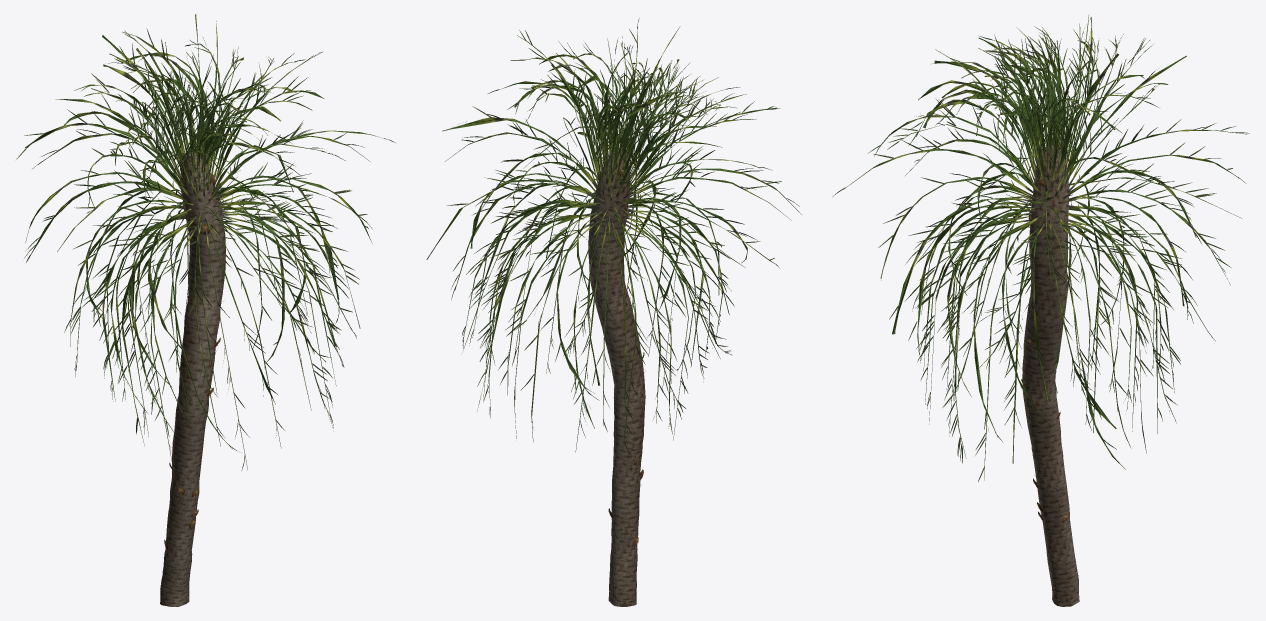
File: macrozamia_moorei_palm_tall_lod1.gltf
3 renders of one model, left to right at view 1: azimuth 30°, elevation 25°; view 2: azimuth 150°, elevation 25°; view 3: azimuth 270°, elevation 25°, orthographic. The views are drawn at different scales.
Parts seen in each view (by area): view 1: Macrozamia_Moorei_Palm_Tall; view 2: Macrozamia_Moorei_Palm_Tall; view 3: Macrozamia_Moorei_Palm_Tall.
Boxes of the visible parts, x1,y1,x2,y2 form: Macrozamia_Moorei_Palm_Tall: [16, 14, 395, 606]; Macrozamia_Moorei_Palm_Tall: [426, 18, 801, 606]; Macrozamia_Moorei_Palm_Tall: [832, 14, 1249, 606].
Bounding box in the file's own units: 2.23 × 3.57 × 2.37.
5 materials, 5 textured.
